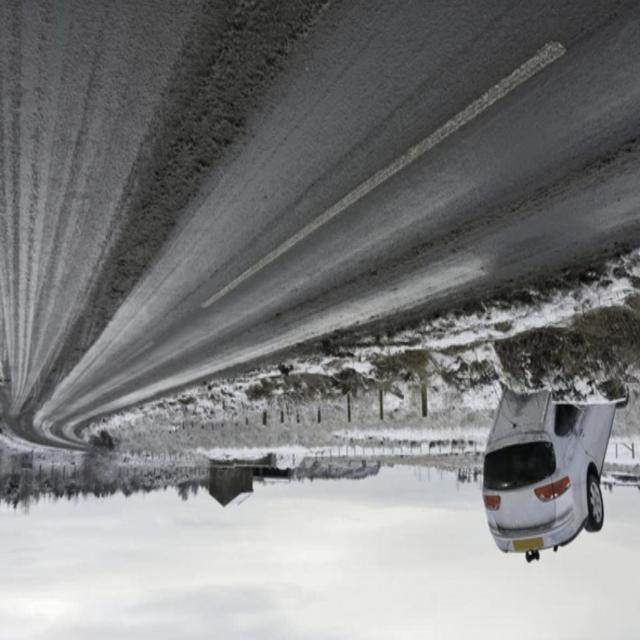severe: (477, 380, 624, 574)
